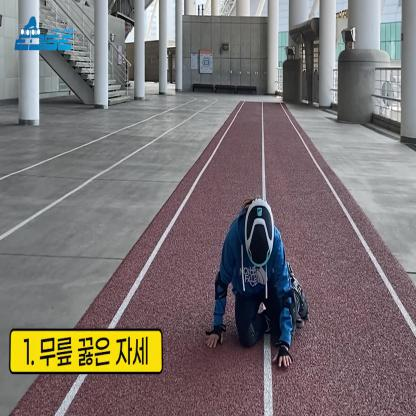Fall_Down: (208, 201, 308, 368)
